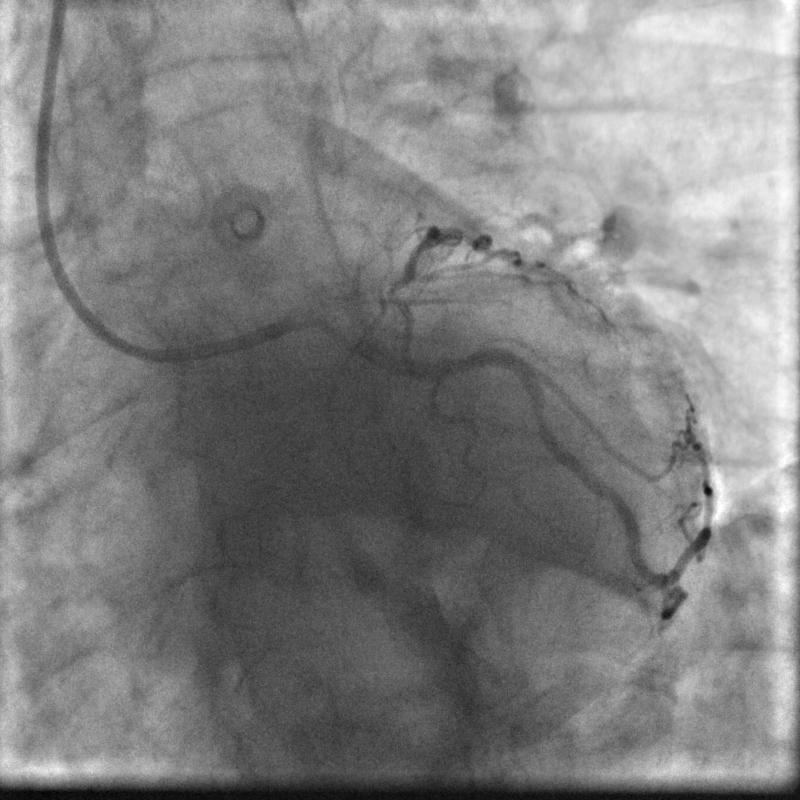Stenosis: (532, 402, 548, 428)
